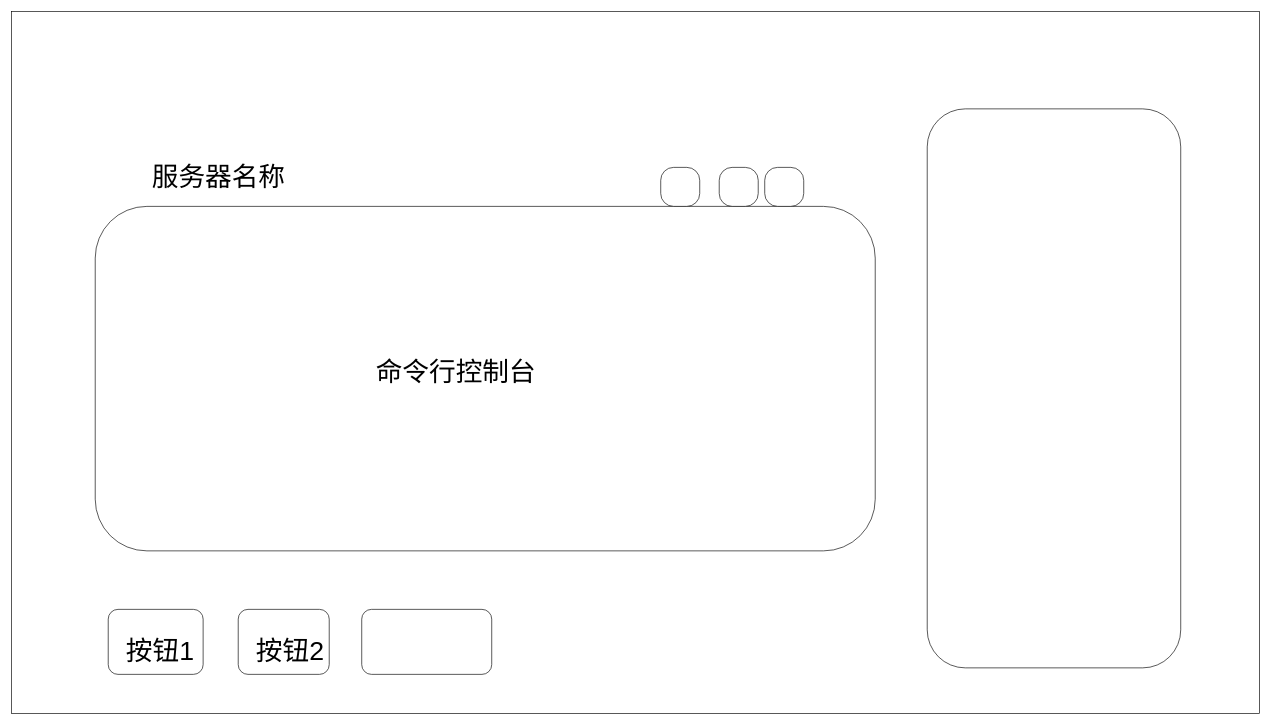
Image size: 1271x725. Some labels were removed from this diagram. The shapes that lost their labels are listed below. From the top down, each one's box as (x1, y1, x2, y2) in pixels, then its label:
(927, 108, 1181, 668): 在线玩家列表
(361, 609, 492, 674): 按钮3
